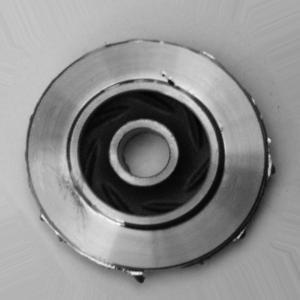casting_with_burr: (20, 36, 275, 286)
crack: (153, 64, 190, 98)
stain: (53, 166, 102, 229)
